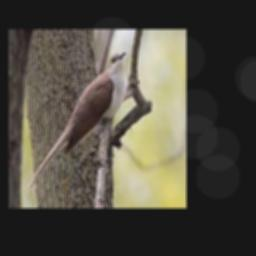Cuckoo: (24, 51, 126, 193)
